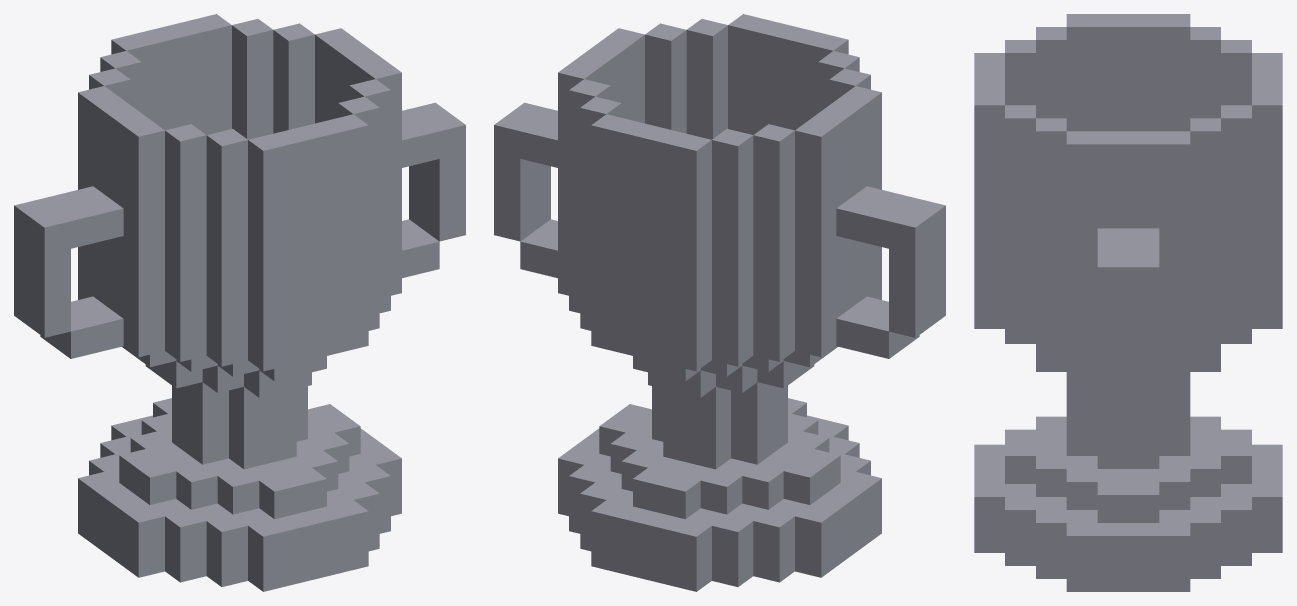
The model's file is silver.obj.
3 views of the same model, side by side, from view 1: azimuth 30°, elevation 25°; view 2: azimuth 150°, elevation 25°; view 3: azimuth 270°, elevation 25° (orthographic).
Bounding box in the file's own units: 1.6 × 1.6 × 1.
1 material, 1 textured.
